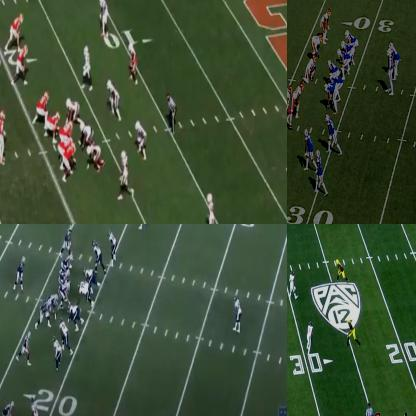CENTER: (60, 120, 76, 142), (327, 59, 340, 81), (59, 282, 71, 301)
DB: (127, 41, 138, 83), (99, 0, 108, 36), (207, 191, 217, 223), (234, 297, 242, 331), (54, 336, 62, 369), (289, 270, 297, 298), (308, 322, 314, 352), (31, 397, 39, 415)
LB: (108, 81, 122, 118), (59, 319, 73, 353), (134, 120, 146, 158), (106, 228, 118, 264), (82, 43, 91, 88), (93, 242, 106, 272), (323, 10, 332, 38), (388, 41, 398, 65)
QB: (387, 50, 394, 97), (0, 113, 6, 166), (16, 256, 24, 289)
SKILL: (15, 44, 30, 81), (8, 13, 24, 46), (326, 115, 338, 156), (316, 149, 326, 194), (303, 130, 314, 170), (345, 26, 358, 50), (347, 317, 359, 343), (22, 332, 31, 365), (64, 224, 72, 256), (335, 260, 347, 280), (0, 400, 14, 415)
